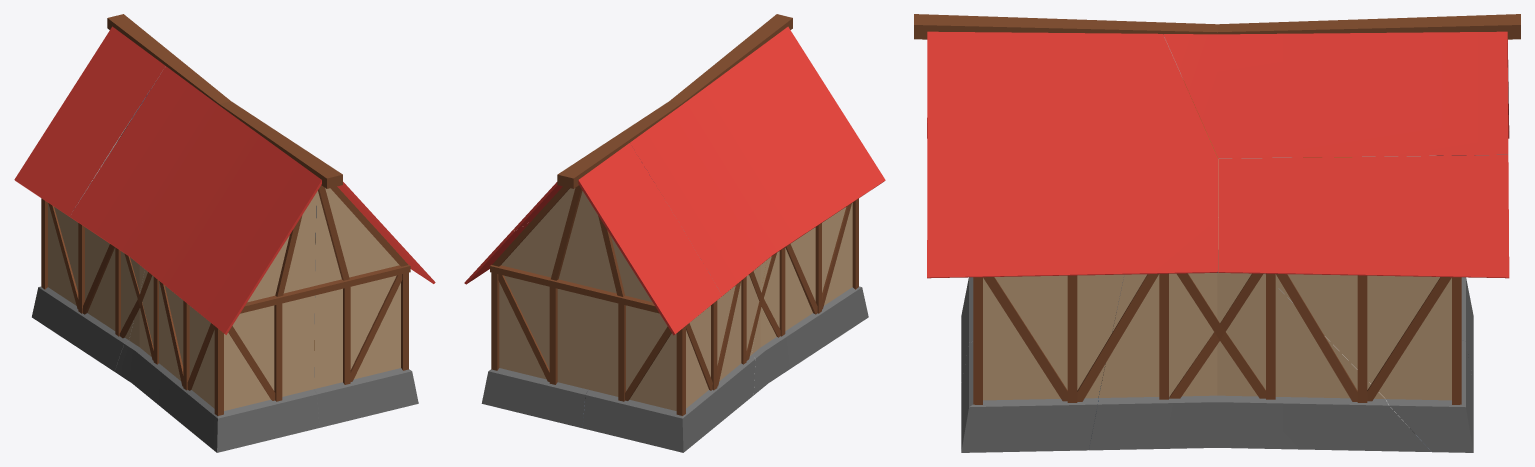
File: Building_002_Broke.fbx
3 renders of one model, left to right at view 1: azimuth 30°, elevation 25°; view 2: azimuth 150°, elevation 25°; view 3: azimuth 270°, elevation 25°, orthographic. The views are drawn at different scales.
Visible parts, largest first — view 1: Building.002_0.021_cell.001, Building.002_0_cell.004, Building.002_0_cell.003, Building.002_0.021_cell.002, Building.002_0_cell.001, Building.002_0.008, Building.002_0.009, Building.002_0.024, Building.002_0.020, Building.002_0.023, Building.002_0.017, Building.002_0.014 (+7 smaller); view 2: Building.002_0.021_cell.001, Building.002_0_cell.001, Building.002_0_cell, Building.002_0.021_cell.002, Building.002_0_cell.004, Building.002_0.001, Building.002_0.002, Building.002_0.020, Building.002_0.024, Building.002_0.015, Building.002_0.016, Building.002_0.010 (+8 smaller); view 3: Building.002_0.022_cell.001, Building.002_0.022_cell, Building.002_0_cell.002, Building.002_0.022_cell.002, Building.002_0_cell.003, Building.002_0_cell, Building.002_0.020, Building.002_0.024, Building.002_0.003, Building.002_0.004, Building.002_0.007, Building.002_0.005 (+5 smaller).
Boxes of the visible parts, x1,y1,x2,y2 form: Building.002_0.021_cell.001: (70, 66, 321, 334); Building.002_0_cell.004: (114, 193, 319, 452); Building.002_0_cell.003: (314, 188, 418, 427); Building.002_0.021_cell.002: (14, 26, 165, 217); Building.002_0_cell.001: (32, 203, 144, 371); Building.002_0.008: (343, 272, 408, 384); Building.002_0.009: (214, 303, 282, 415); Building.002_0.024: (107, 14, 230, 104); Building.002_0.020: (219, 101, 342, 188); Building.002_0.023: (240, 264, 410, 313); Building.002_0.017: (275, 185, 349, 296); Building.002_0.014: (48, 203, 84, 313); Building.002_0.021_cell.001: (630, 26, 885, 296); Building.002_0_cell.001: (582, 201, 766, 452); Building.002_0_cell: (481, 188, 588, 428); Building.002_0.021_cell.002: (578, 143, 722, 335); Building.002_0_cell.004: (751, 203, 868, 394); Building.002_0.001: (491, 272, 557, 384); Building.002_0.002: (618, 303, 685, 415); Building.002_0.020: (669, 14, 792, 105); Building.002_0.024: (557, 101, 680, 188); Building.002_0.015: (490, 265, 659, 313); Building.002_0.016: (551, 185, 624, 296); Building.002_0.010: (815, 203, 851, 313); Building.002_0.022_cell.001: (927, 31, 1217, 278); Building.002_0.022_cell: (1163, 31, 1508, 158); Building.002_0_cell.002: (1089, 217, 1431, 451); Building.002_0.022_cell.002: (1218, 155, 1509, 278); Building.002_0_cell.003: (961, 274, 1124, 452); Building.002_0_cell: (1218, 159, 1473, 452); Building.002_0.020: (914, 14, 1217, 39); Building.002_0.024: (1217, 14, 1520, 39); Building.002_0.003: (1169, 273, 1265, 398); Building.002_0.004: (1357, 275, 1451, 402); Building.002_0.007: (983, 275, 1077, 402); Building.002_0.005: (1266, 273, 1357, 401).
Bounding box in the file's own units: 3.27 × 3.91 × 5.88.
